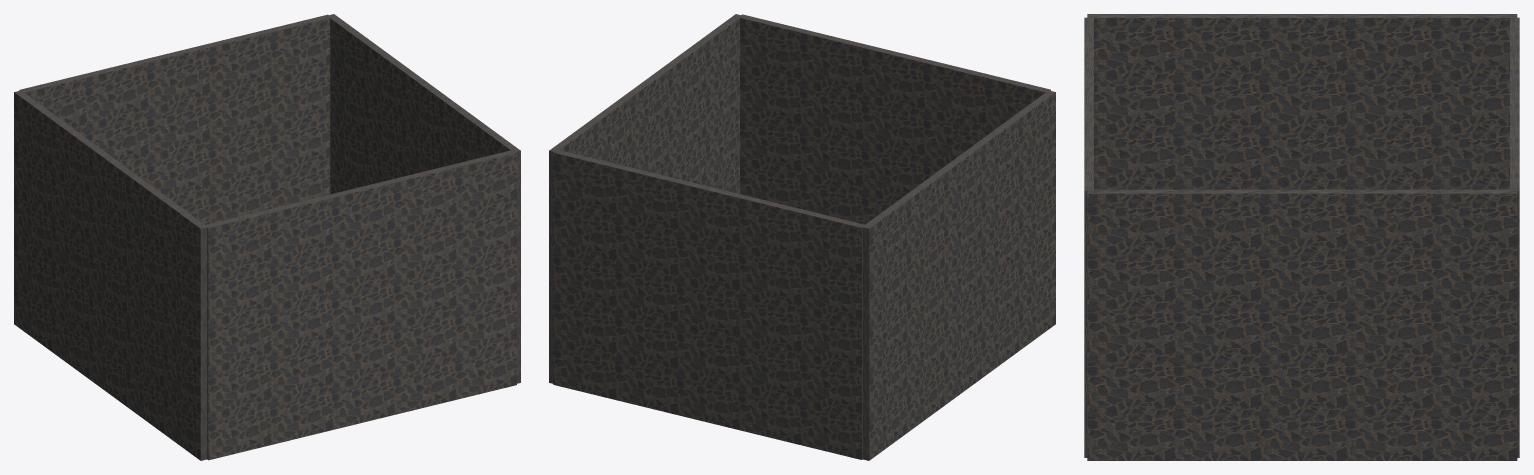
The model's file is smallplace.glb.
3 renders of one model, left to right at view 1: azimuth 30°, elevation 25°; view 2: azimuth 150°, elevation 25°; view 3: azimuth 270°, elevation 25°, orthographic. The views are drawn at different scales.
Visible parts, largest first — view 1: Cube, Cube.003, Cube.001, Cube.002; view 2: Cube.001, Cube.003, Cube, Cube.002; view 3: Cube.002, Cube.003, Cube, Cube.001.
Part boxes in pixels (x1=…): Cube: x1=204, y1=150, x2=516, y2=460; Cube.003: x1=14, y1=90, x2=207, y2=460; Cube.001: x1=19, y1=14, x2=331, y2=224; Cube.002: x1=329, y1=14, x2=520, y2=383; Cube.001: x1=553, y1=149, x2=865, y2=459; Cube.003: x1=862, y1=90, x2=1055, y2=460; Cube: x1=738, y1=14, x2=1050, y2=224; Cube.002: x1=549, y1=14, x2=740, y2=383; Cube.002: x1=1087, y1=189, x2=1517, y2=460; Cube.003: x1=1087, y1=14, x2=1517, y2=189; Cube: x1=1084, y1=17, x2=1093, y2=457; Cube.001: x1=1510, y1=17, x2=1519, y2=457.
Bounding box in the file's own units: 22.65 × 16.45 × 23.16.
Materials: 1 (1 with a texture image).
